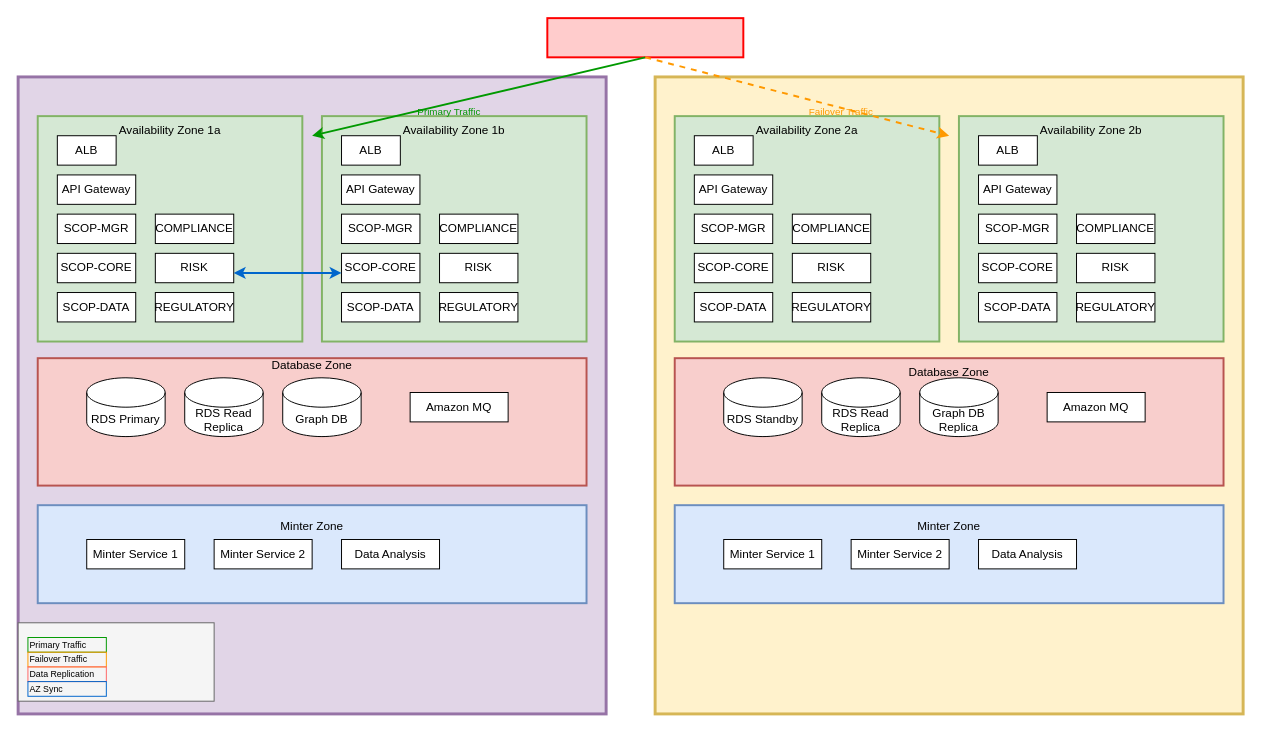
This 1261x732 diagram has some shape labels left out. The shapes that lost their labels are listed below. From the top down, each one's box as (x1, y1, x2, y2) in pixels, then its label:
(546, 17, 744, 58): Global Load Balancer / Route 53
(16, 75, 607, 715): Primary Region (us-east-1)
(653, 75, 1244, 715): Secondary Region (us-west-2)
(17, 622, 214, 701): Legend
